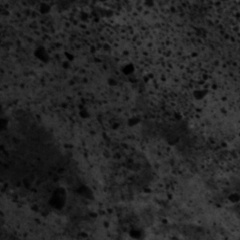Vegetation: (70, 128, 240, 240), (2, 58, 240, 130), (129, 1, 240, 64), (85, 1, 126, 58), (2, 209, 70, 240)
